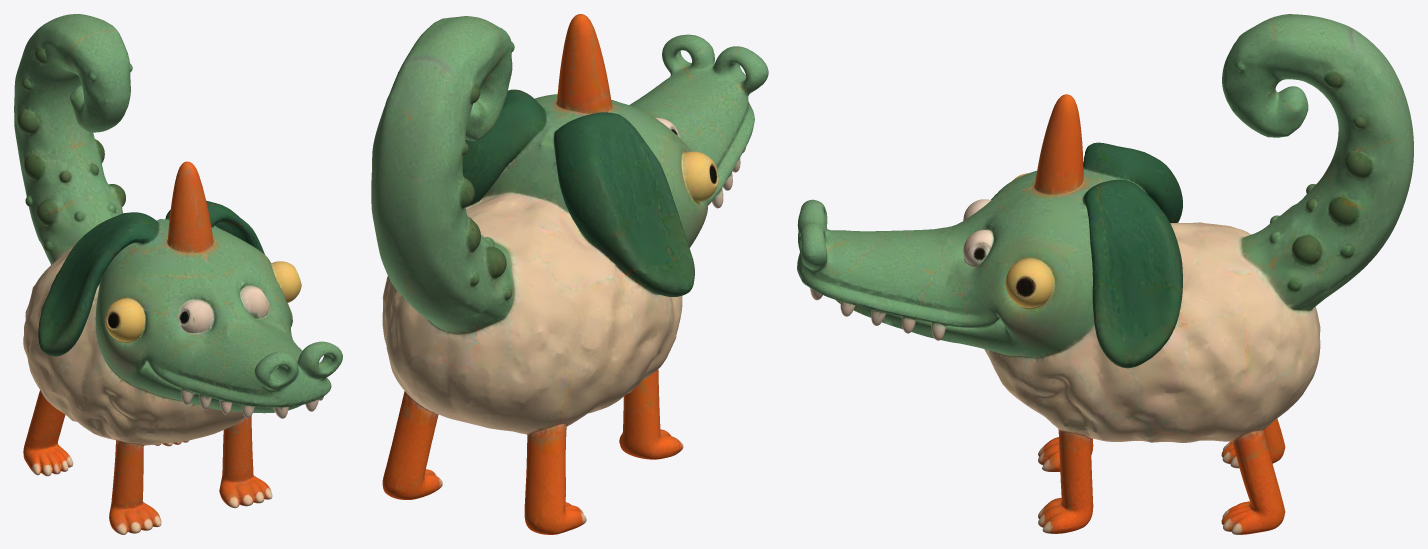
Rendered from crocodoodle.glb.
The picture shows the model from 3 angles, left to right: view 1: azimuth 30°, elevation 25°; view 2: azimuth 150°, elevation 25°; view 3: azimuth 270°, elevation 25°; orthographic projection. The views are drawn at different scales.
Visible parts, largest first — view 1: mesh_node; view 2: mesh_node; view 3: mesh_node.
Boxes of the visible parts, x1,y1,x2,y2 form: mesh_node: [14, 14, 342, 534]; mesh_node: [371, 14, 768, 534]; mesh_node: [797, 14, 1413, 534].
Size of the model in its own units: 0.9579 by 1.61 by 1.9.
Materials: 1 (1 with a texture image).
